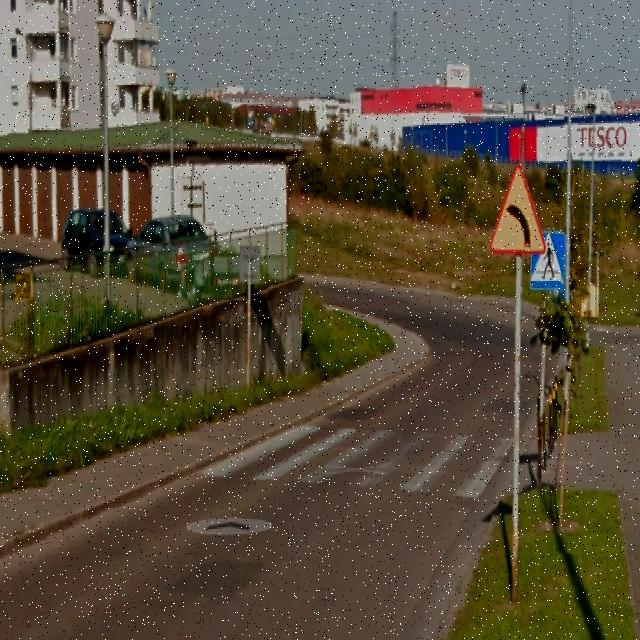Przejscie dla pieszych: (532, 232, 564, 290)
